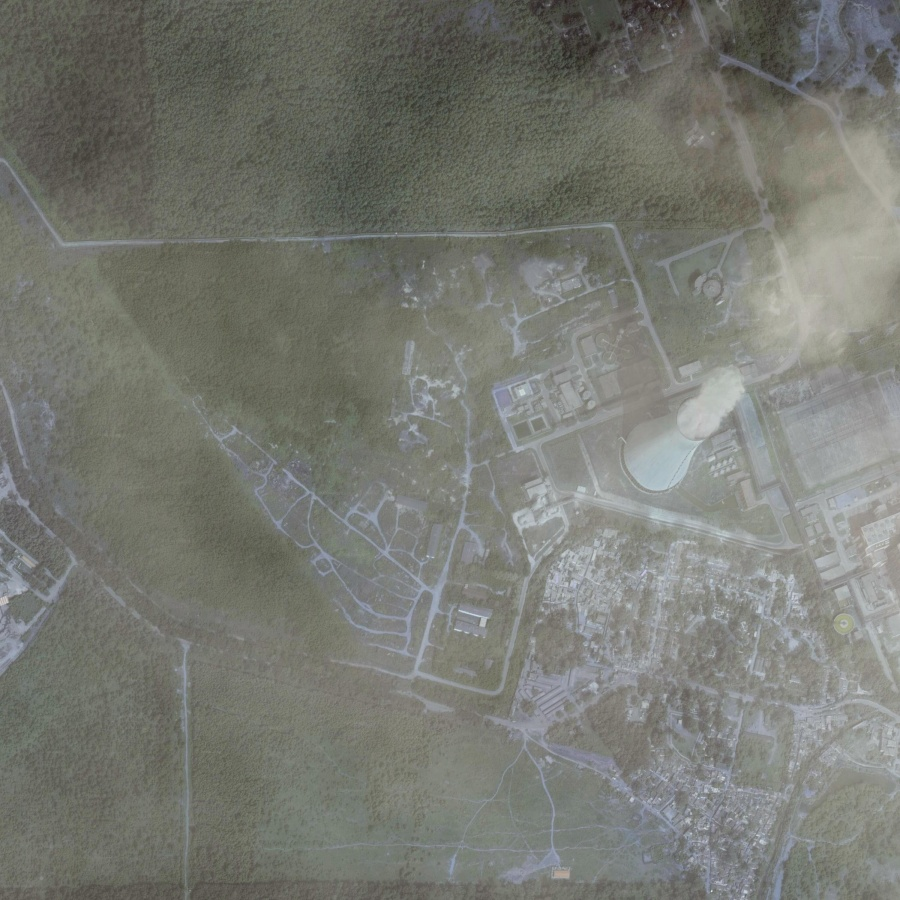PowerPlant: (613, 326, 768, 537)
